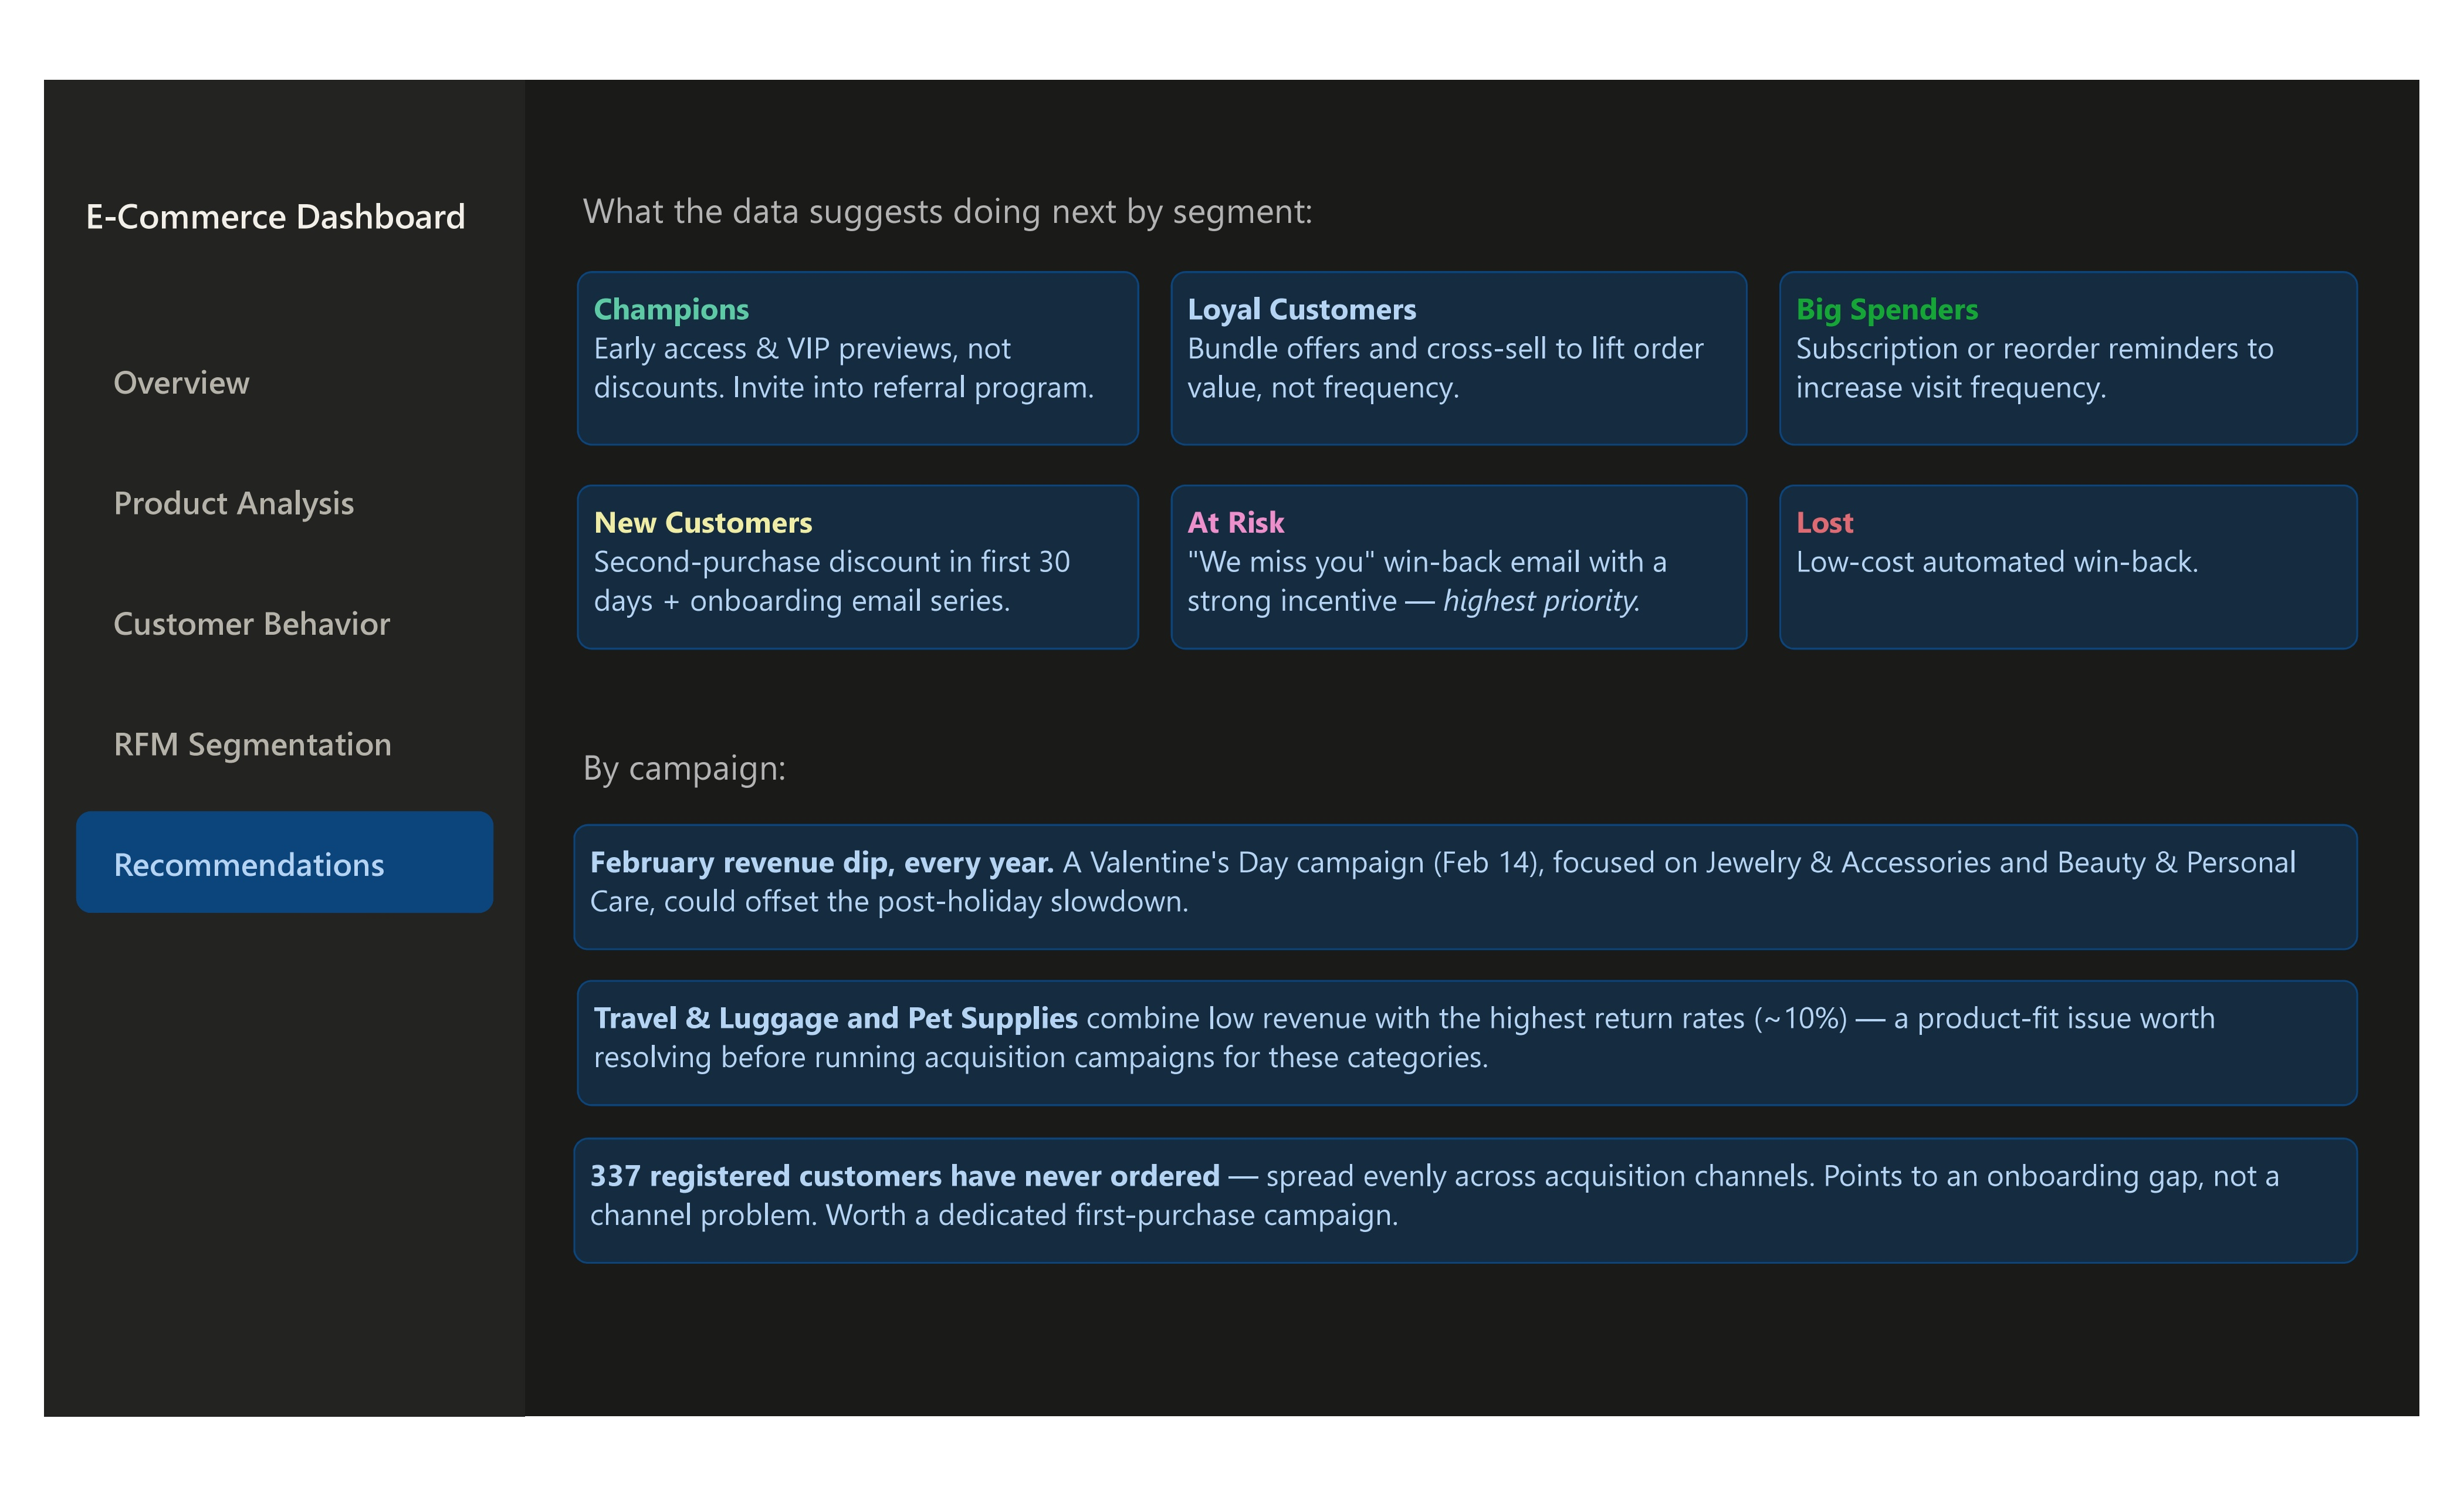

The dashboard page shown, as its layout file describes it:
{"tool":"powerbi","page":{"name":"Recommendations","canvas":[1280,720],"ordinal":4},"visuals":[{"type":"shape","box":[0,0,259.5,720.5],"z":0},{"type":"pageNavigator","box":[17.2,134.4,225.1,318.8],"z":1000},{"type":"textbox","box":[17.2,54.7,225.1,96.9],"z":2000},{"type":"textbox","box":[285.3,51.7,952.4,47.2],"z":3000},{"type":"textbox","box":[606.5,103,311.8,94.5],"z":4000},{"type":"textbox","box":[287.2,103,302.4,94.5],"z":5000},{"type":"textbox","box":[287.2,218.3,302.4,88.8],"z":6000},{"type":"textbox","box":[935.3,103,311.8,94.5],"z":7000},{"type":"textbox","box":[606.5,218.3,311.8,88.8],"z":8000},{"type":"textbox","box":[935.3,218.3,311.8,88.8],"z":9000},{"type":"textbox","box":[285.3,401.5,961.9,68],"z":10000},{"type":"textbox","box":[287.2,484.6,960,68],"z":11000},{"type":"textbox","box":[285.3,569.6,961.9,68],"z":12000},{"type":"textbox","box":[285.3,352.3,952.4,47.2],"z":12001}]}

Visuals, with their boxes on the page's 1280x720 design canvas (x1, y1, x2, y2). These are canvas units, not pixel positions in the 2464x1496 screenshot, which may show the page scaled, cropped or inside an application window:
shape: bbox=[0, 0, 260, 720]
pageNavigator: bbox=[17, 134, 242, 453]
textbox: bbox=[17, 55, 242, 152]
textbox: bbox=[285, 52, 1238, 99]
textbox: bbox=[606, 103, 918, 198]
textbox: bbox=[287, 103, 590, 198]
textbox: bbox=[287, 218, 590, 307]
textbox: bbox=[935, 103, 1247, 198]
textbox: bbox=[606, 218, 918, 307]
textbox: bbox=[935, 218, 1247, 307]
textbox: bbox=[285, 402, 1247, 470]
textbox: bbox=[287, 485, 1247, 553]
textbox: bbox=[285, 570, 1247, 638]
textbox: bbox=[285, 352, 1238, 400]
